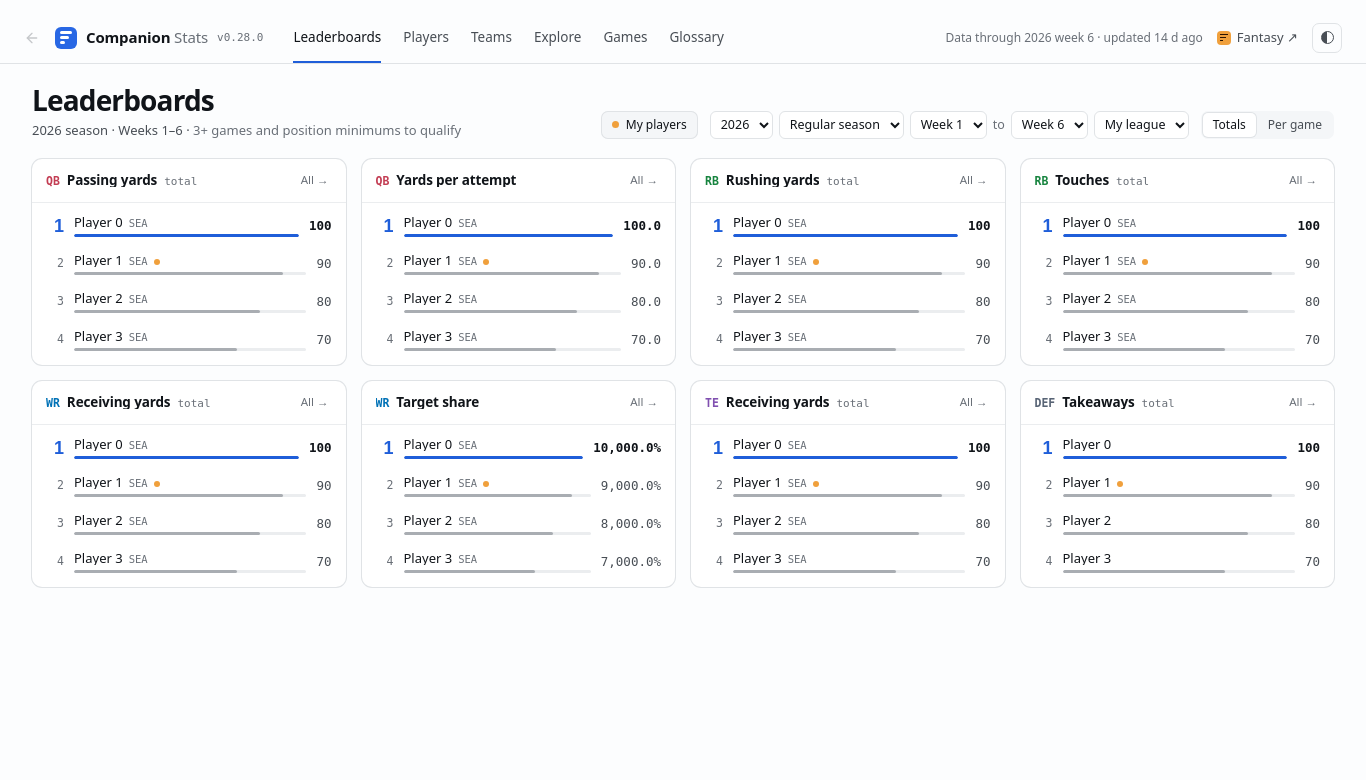
Companion Stats › opens a board in full: its position, sorted by its metric, best first
The width and height of the screenshot is (1366, 780).
Click the button "All →" in the row of "Passing yards" at (315, 180), box [294, 168, 336, 192]
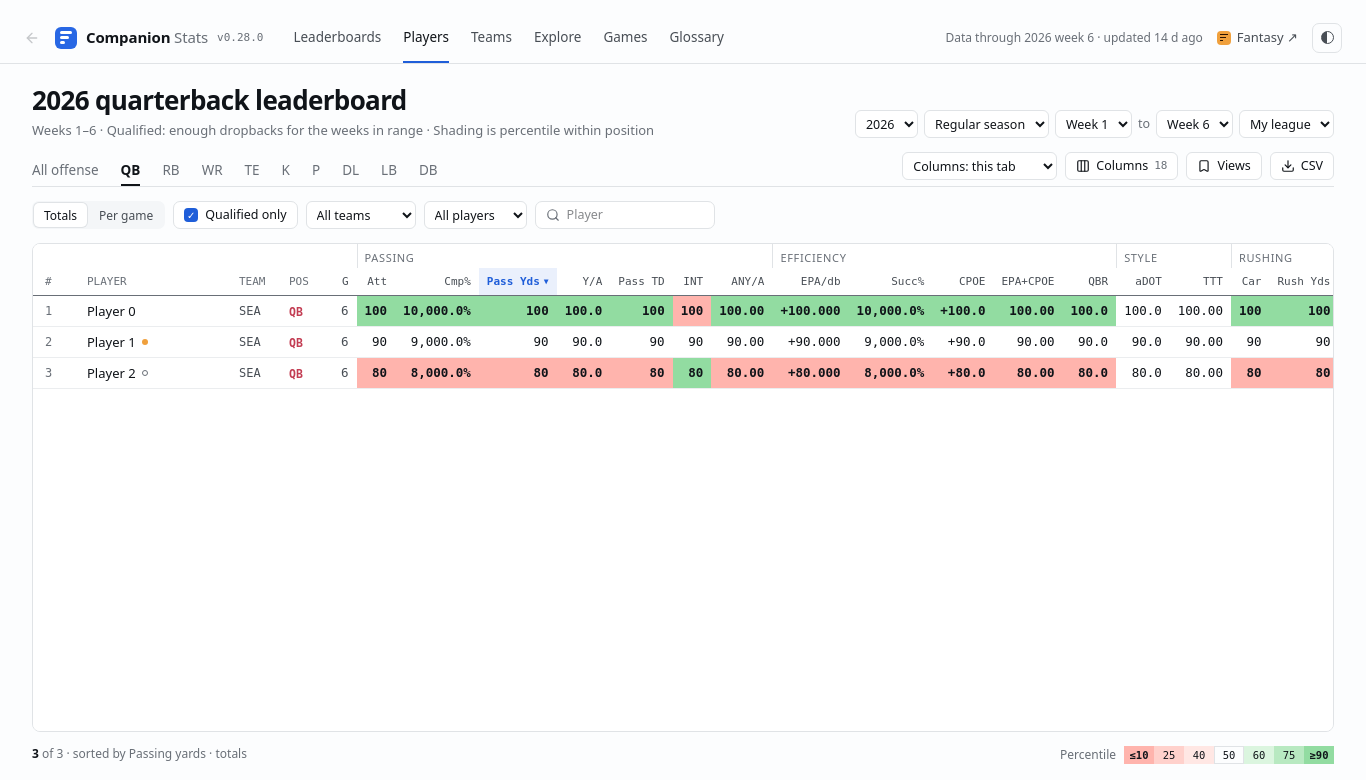
Expected: the heading "2026 quarterback leaderboard" is shown, [32, 82, 407, 118]
Expected: the tab "QB" is shown, [121, 154, 140, 186]
